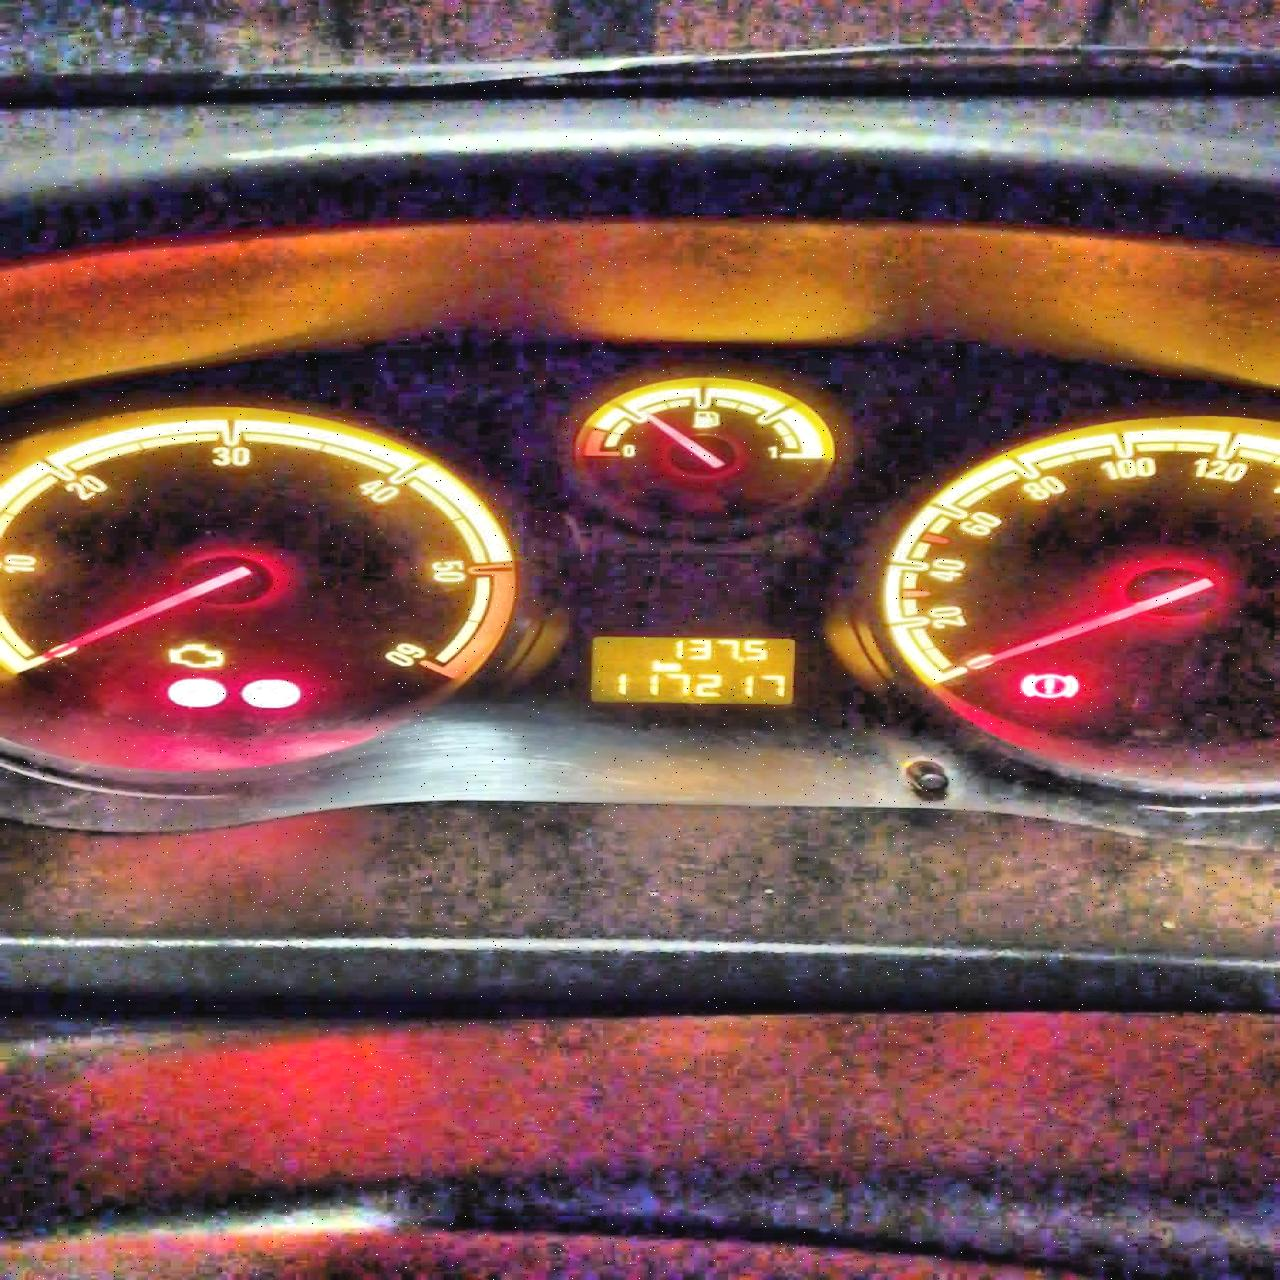-: (737, 655, 745, 662)
1: (740, 675, 754, 696), (613, 673, 627, 694), (670, 639, 685, 659), (647, 674, 660, 695)
2: (694, 673, 723, 697)
3: (686, 639, 713, 660)
5: (742, 639, 768, 660)
7: (661, 673, 692, 696), (758, 674, 785, 697), (714, 639, 738, 659)
X: (648, 659, 681, 672)
odometer: (586, 633, 798, 707)
